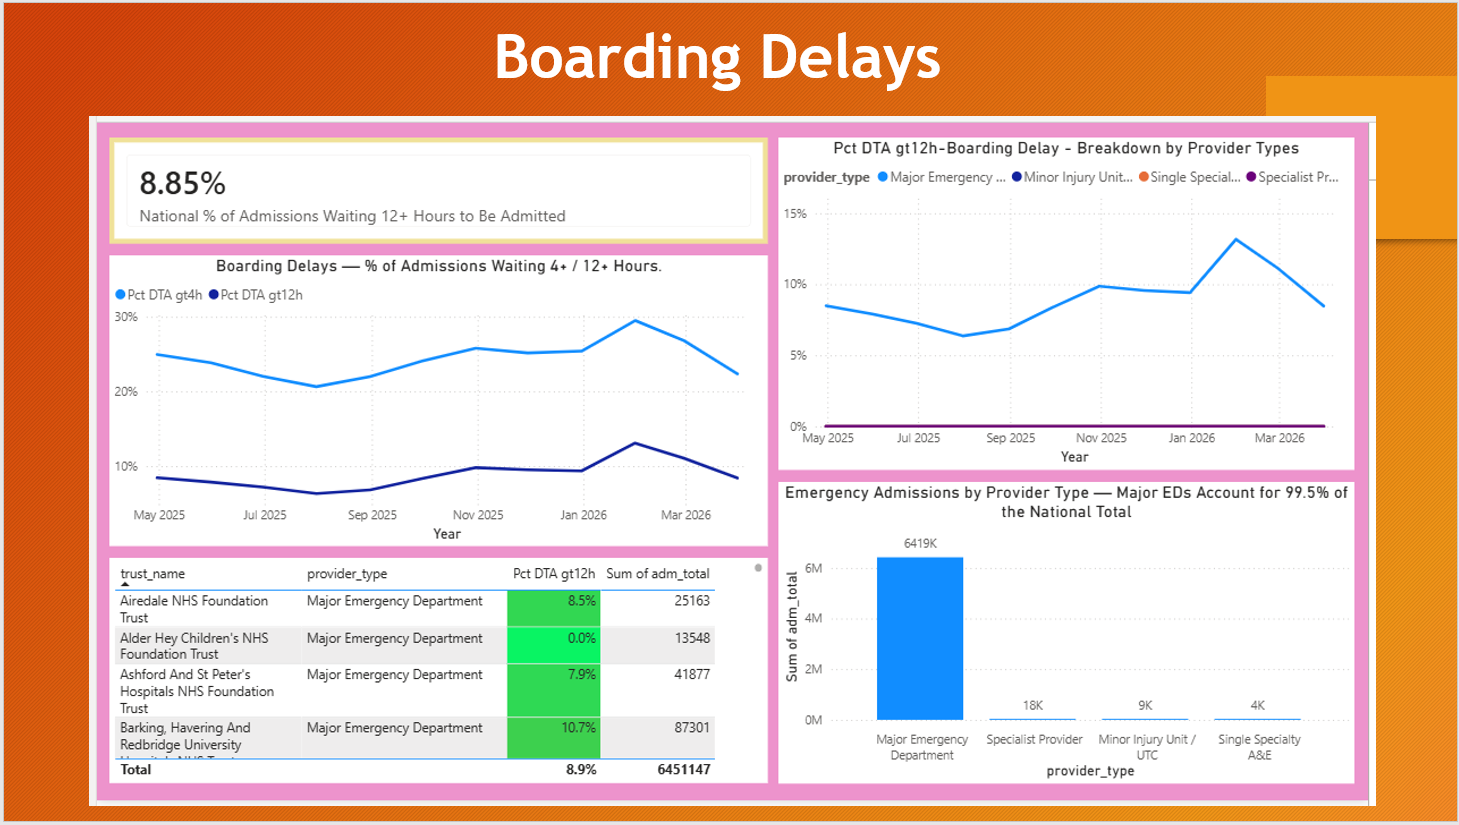

What the dashboard file says about the page in this screenshot:
{"tool":"powerbi","page":{"name":"Boarding Delays","canvas":[1280,720],"ordinal":2},"visuals":[{"type":"lineChart","title":"Boarding Delays — % of Admissions Waiting 4+ / 12+ Hours.","fields":{"Y":["gold fact_ae_monthly.Pct DTA gt4h","gold fact_ae_monthly.Pct DTA gt12h"],"Category":["gold dim_date.report_date.Variation.Date Hierarchy.Year","gold dim_date.report_date.Variation.Date Hierarchy.Quarter","gold dim_date.report_date.Variation.Date Hierarchy.Month","gold dim_date.report_date.Variation.Date Hierarchy.Day"]},"box":[12.6,171.3,663.4,293.5],"z":0},{"type":"lineChart","title":"Pct DTA gt12h-Boarding Delay - Breakdown by Provider Types","fields":{"Category":["gold dim_date.report_date.Variation.Date Hierarchy.Year","gold dim_date.report_date.Variation.Date Hierarchy.Quarter","gold dim_date.report_date.Variation.Date Hierarchy.Month","gold dim_date.report_date.Variation.Date Hierarchy.Day"],"Y":["gold fact_ae_monthly.Pct DTA gt12h"],"Series":["gold dim_provider.provider_type"]},"box":[686.2,52.5,580.1,334.6],"z":1000},{"type":"tableEx","fields":{"Values":["gold dim_provider.trust_name","gold dim_provider.provider_type","gold fact_ae_monthly.Pct DTA gt12h","Sum(gold fact_ae_monthly.adm_total)"]},"box":[12.6,476.1,663.4,227.2],"z":2000},{"type":"cardVisual","fields":{"Data":["gold fact_ae_monthly.Pct DTA gt12h"]},"box":[12.6,52.5,663.4,107.3],"z":3000},{"type":"columnChart","title":"Emergency Admissions by Provider Type — Major EDs Account for 99.5% of the National Total","fields":{"Category":["gold dim_provider.provider_type"],"Y":["Sum(gold fact_ae_monthly.adm_total)"]},"box":[686.2,399.6,580.1,303.7],"z":4000}]}

Visuals, with their boxes in screenshot pixels (x1, y1, x2, y2), scaled from the page's 1280x720 canvas onto the 1459x825 screenshot:
"Boarding Delays — % of Admissions Waiting 4+ / 12+ Hours." lineChart: select_region(14, 196, 771, 533)
"Pct DTA gt12h-Boarding Delay - Breakdown by Provider Types" lineChart: select_region(782, 60, 1443, 444)
tableEx - gold dim_provider.trust_name x gold dim_provider.provider_type: select_region(14, 546, 771, 806)
cardVisual - gold fact_ae_monthly.Pct DTA gt12h: select_region(14, 60, 771, 183)
"Emergency Admissions by Provider Type — Major EDs Account for 99.5% of the National Total" columnChart: select_region(782, 458, 1443, 806)
